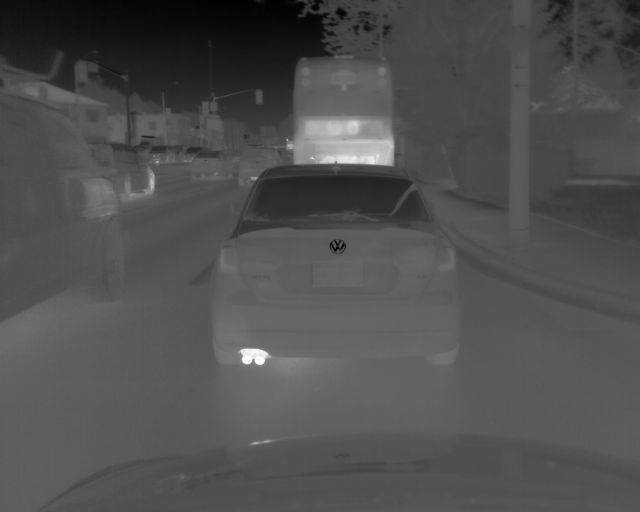car: (211, 162, 463, 369), (1, 90, 130, 322), (291, 55, 394, 165), (107, 142, 158, 197), (236, 146, 281, 185), (192, 151, 231, 180), (151, 145, 174, 162), (185, 146, 202, 162), (172, 145, 184, 164)
